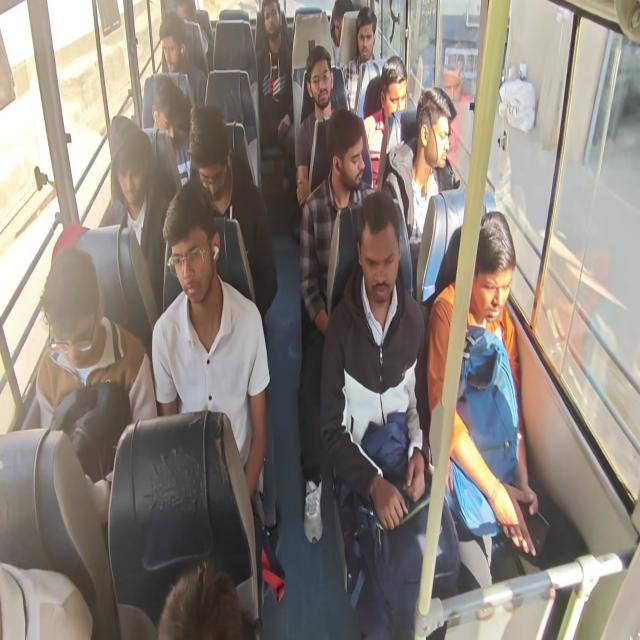person: (30, 1, 542, 637), (319, 191, 461, 638), (426, 209, 538, 592), (151, 180, 271, 516), (297, 107, 376, 543), (35, 244, 157, 525), (187, 104, 278, 324), (103, 119, 172, 325), (380, 86, 458, 243), (156, 562, 254, 639), (294, 45, 336, 210), (362, 55, 408, 190), (256, 0, 294, 150), (158, 11, 206, 108), (151, 74, 191, 184), (340, 6, 380, 112), (176, 0, 210, 68), (329, 0, 353, 65)
